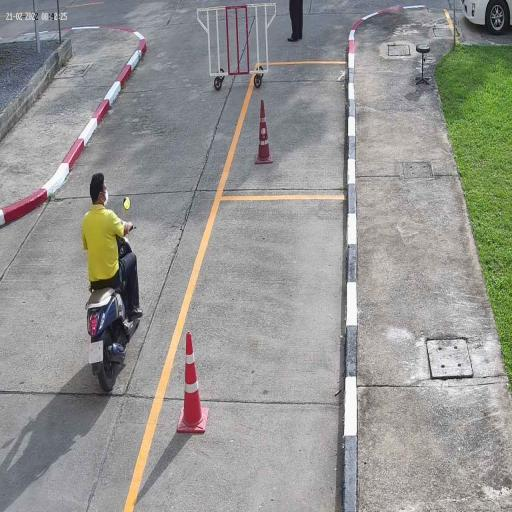motorcycle: (85, 284, 143, 393)
